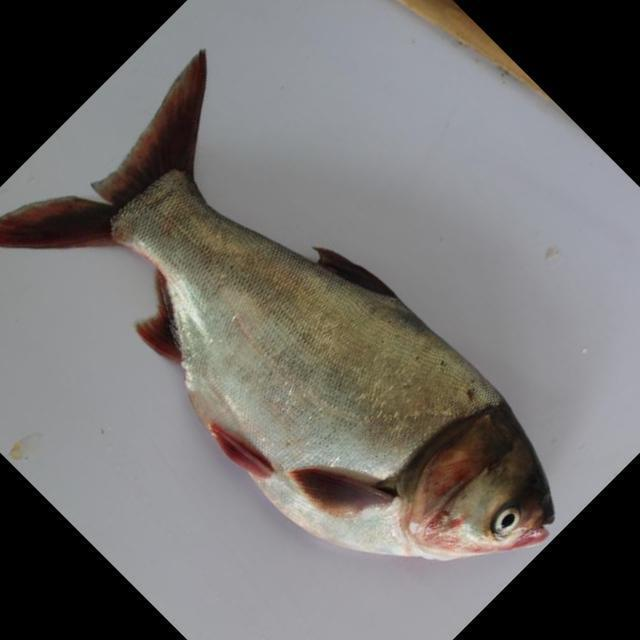Silver Carp: (1, 48, 560, 562)
